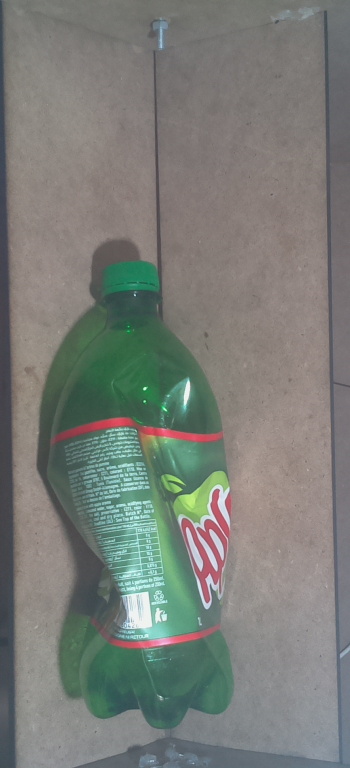Bouteille_1L: (31, 249, 253, 739)
